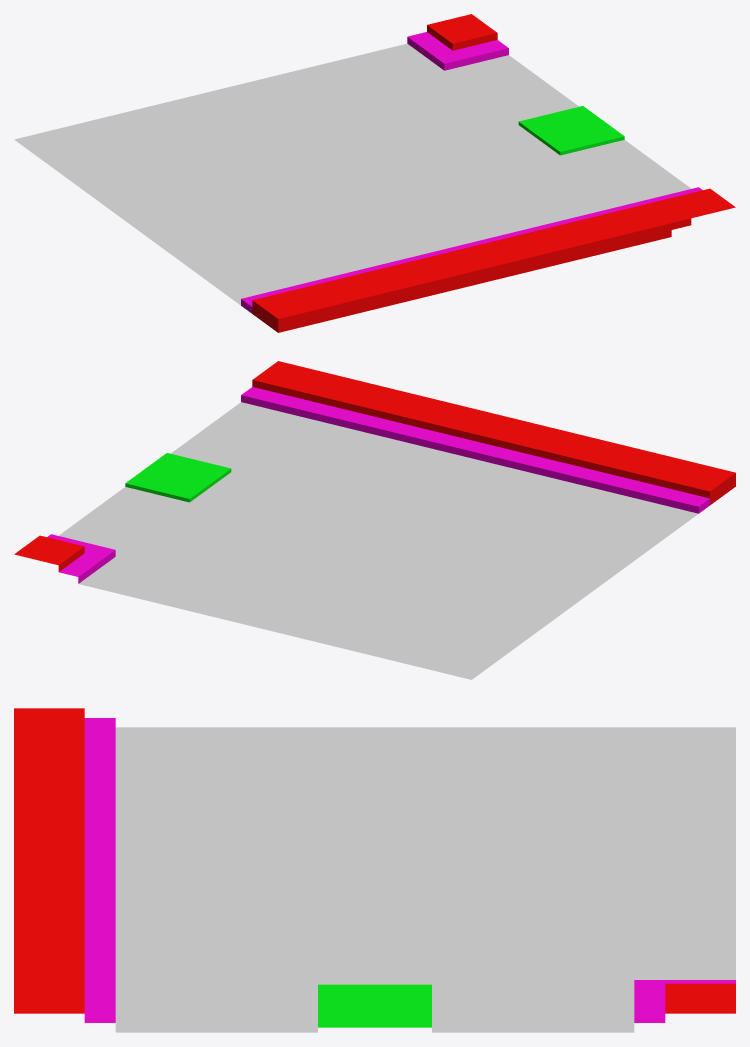
The model's file is Floor-Entrance001.fbx.
3 views of the same model, one above another, from view 1: azimuth 30°, elevation 25°; view 2: azimuth 150°, elevation 25°; view 3: azimuth 270°, elevation 25° (orthographic). The views are drawn at different scales.
Visible parts, largest first — view 1: Entrance001; view 2: Entrance001; view 3: Entrance001.
Boxes of the visible parts, <box> form: Entrance001: <box>14,14,735,332</box>; Entrance001: <box>14,361,735,679</box>; Entrance001: <box>14,708,735,1032</box>.
Size of the model in its own units: 78.74 by 2.28 by 78.74.
